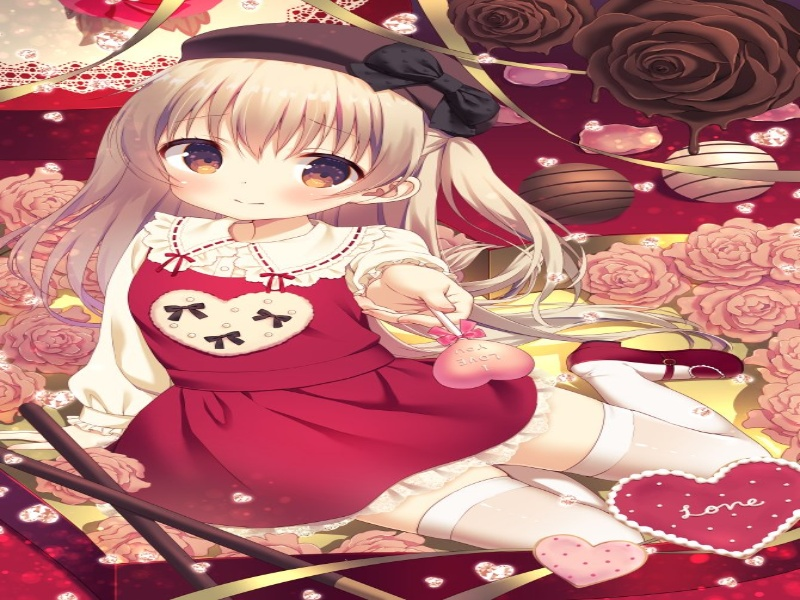person: (142, 88, 390, 234)
